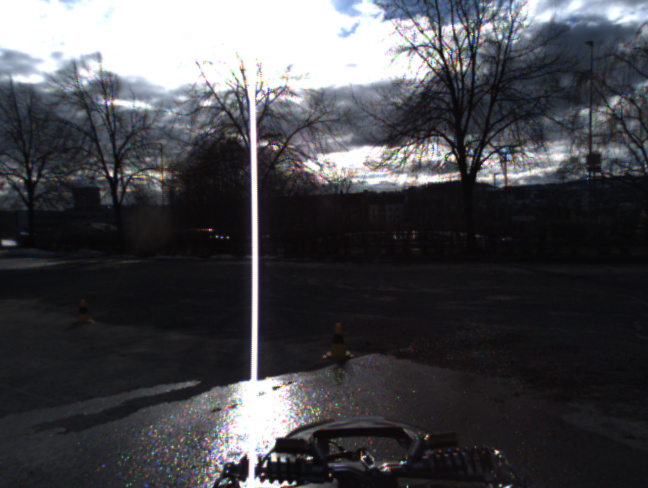cone-small-yellow: (323, 321, 353, 359), (72, 299, 93, 324)
